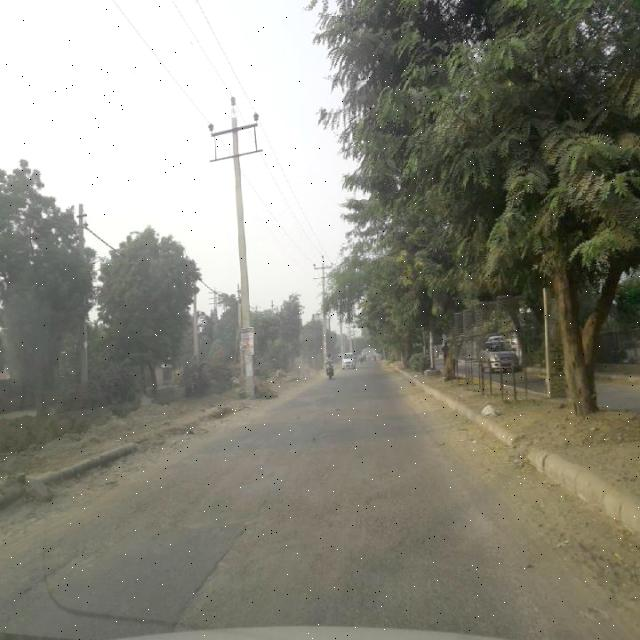D00: (9, 550, 88, 612)
